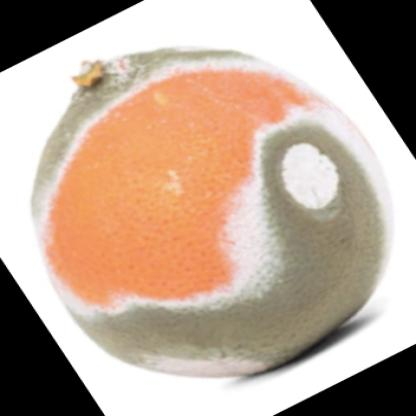rotten: (32, 48, 384, 377)
